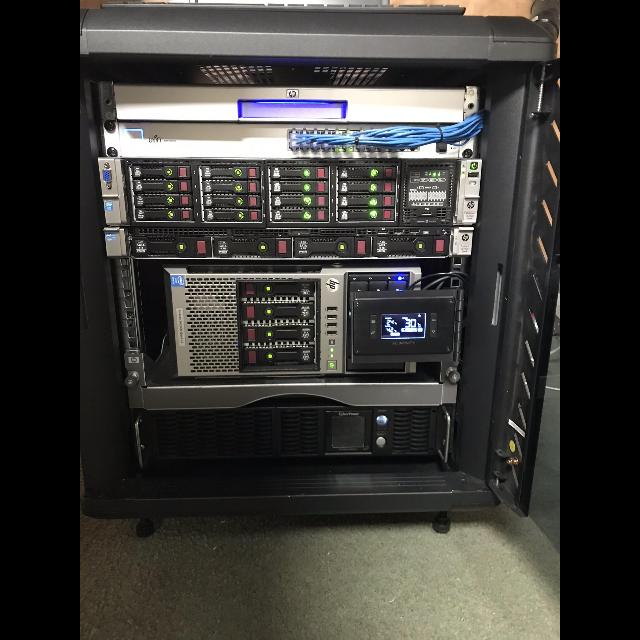Server: (85, 22, 507, 516)
